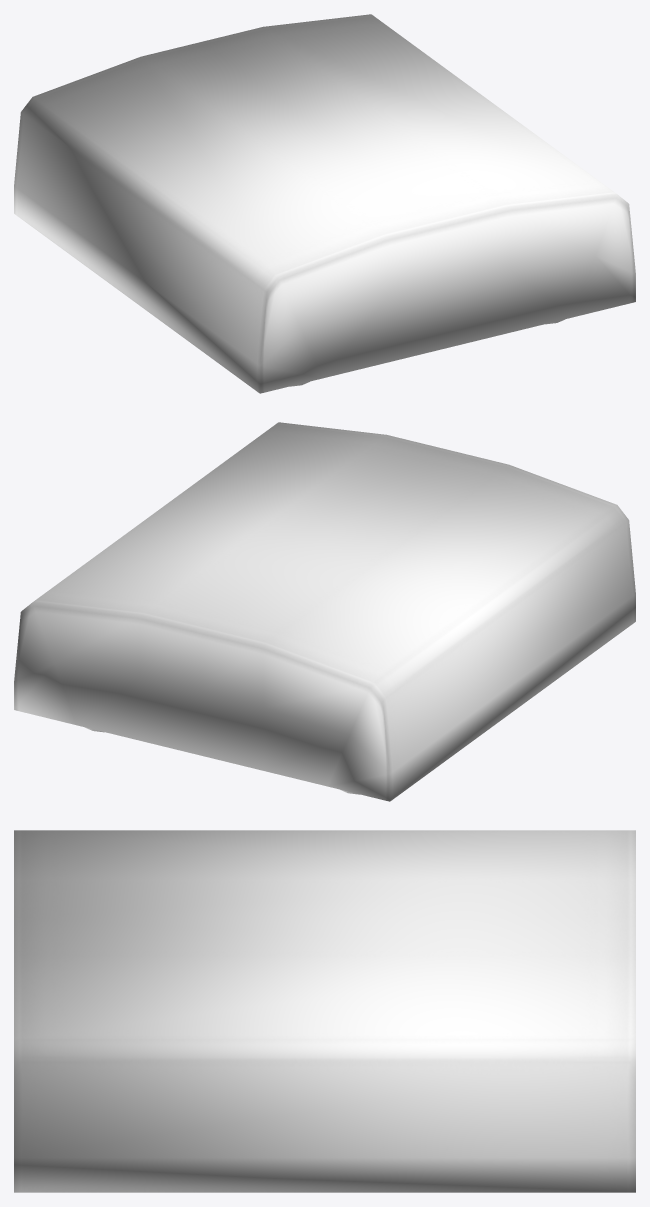
File: fixture_base.fbx
3 renders of one model, top to bottom at view 1: azimuth 30°, elevation 25°; view 2: azimuth 150°, elevation 25°; view 3: azimuth 270°, elevation 25°, orthographic. The views are drawn at different scales.
Parts seen in each view (by area): view 1: base; view 2: base; view 3: base.
Boxes of the visible parts, left/top/right/bottom form: base: left=14, top=14, right=635, bottom=393; base: left=14, top=422, right=635, bottom=801; base: left=14, top=830, right=635, bottom=1192.
Bounding box in the file's own units: 22.74 × 8.44 × 25.77.
1 material, 1 textured.
